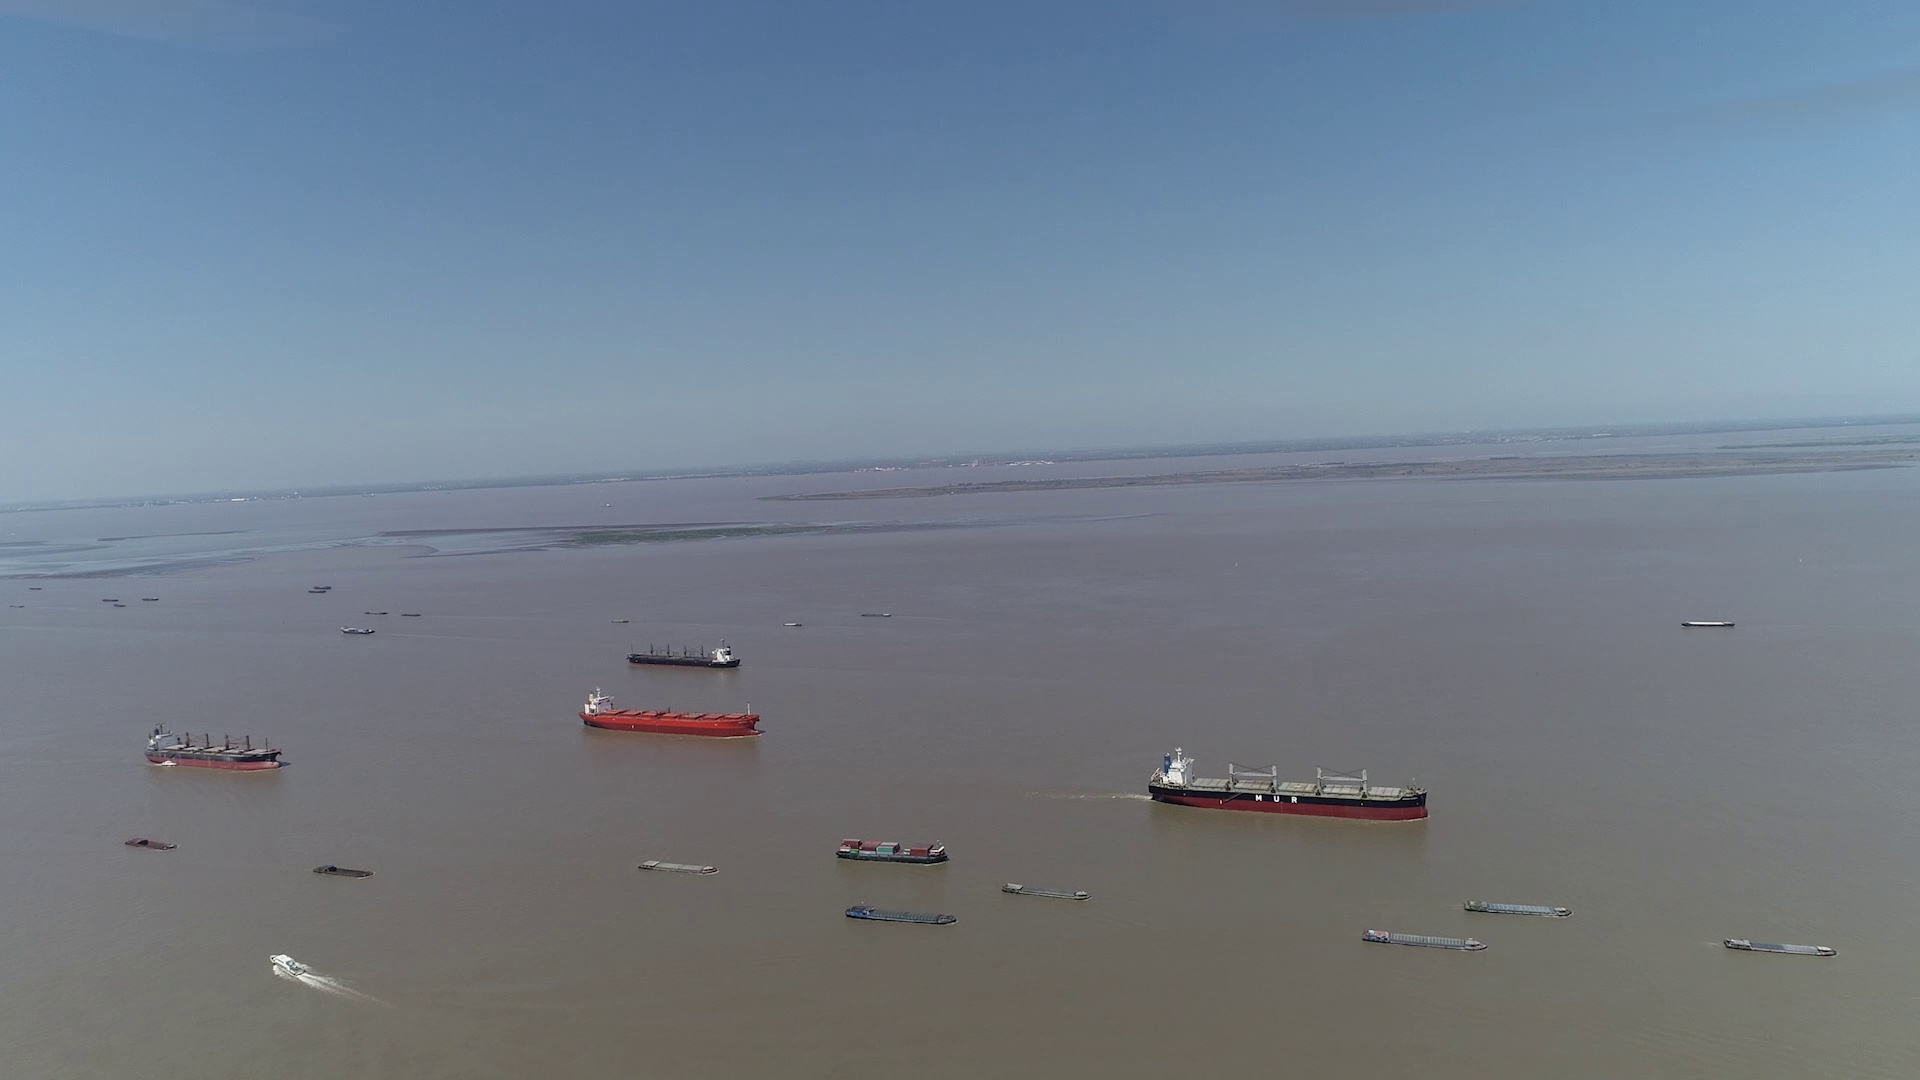ship: (1149, 746, 1425, 822), (579, 688, 757, 738), (142, 723, 282, 771), (833, 837, 948, 866), (626, 641, 738, 667), (1360, 927, 1487, 949), (843, 905, 957, 924), (1724, 938, 1836, 957), (1462, 899, 1575, 919), (1002, 882, 1089, 901), (637, 858, 717, 876), (268, 952, 305, 975), (313, 864, 372, 876), (124, 837, 175, 851), (1683, 618, 1734, 628), (339, 624, 377, 633)
